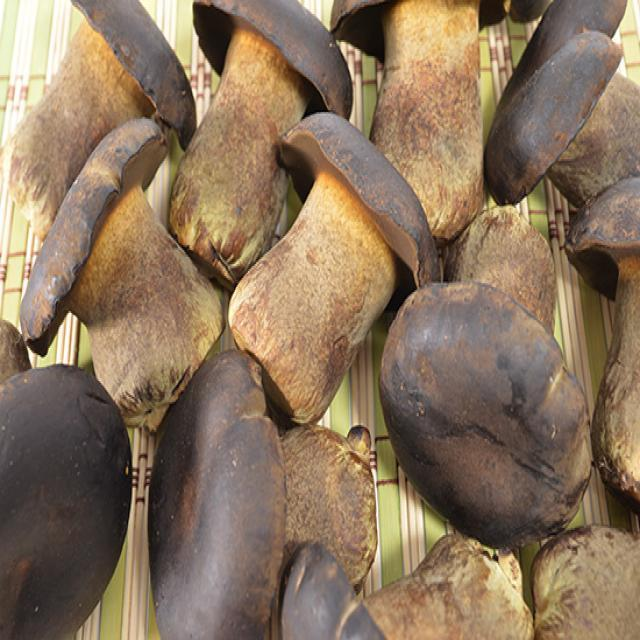Boletus: (382, 203, 590, 540), (147, 356, 375, 640), (231, 108, 436, 421), (24, 121, 220, 421), (171, 0, 350, 271), (8, 0, 195, 238), (0, 364, 131, 635)
